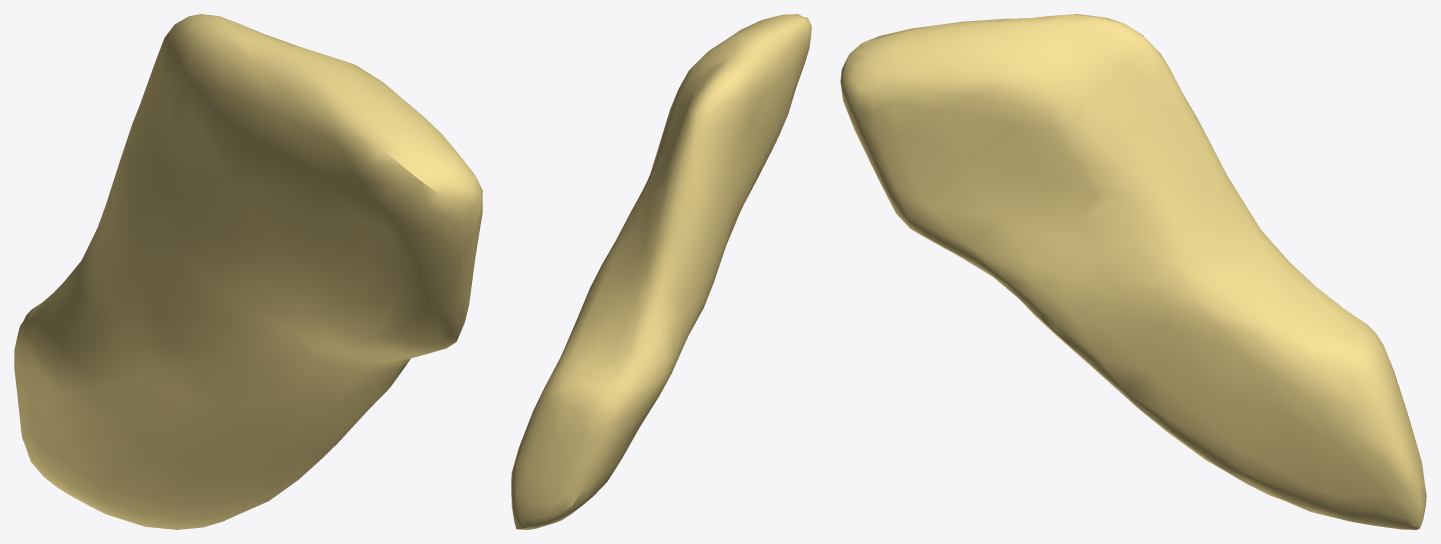
Rendered from fma72708_mm3252.glb.
The picture shows the model from 3 angles, left to right: view 1: azimuth 30°, elevation 25°; view 2: azimuth 150°, elevation 25°; view 3: azimuth 270°, elevation 25°; orthographic projection. The views are drawn at different scales.
Parts seen in each view (by area): view 1: FMA72708_MM3252; view 2: FMA72708_MM3252; view 3: FMA72708_MM3252.
Part boxes in pixels (<box>): FMA72708_MM3252: <box>14,14,482,529</box>; FMA72708_MM3252: <box>511,14,811,529</box>; FMA72708_MM3252: <box>840,14,1426,529</box>.
Bounding box in the file's own units: 0.00219 × 0.0074 × 0.00837.
